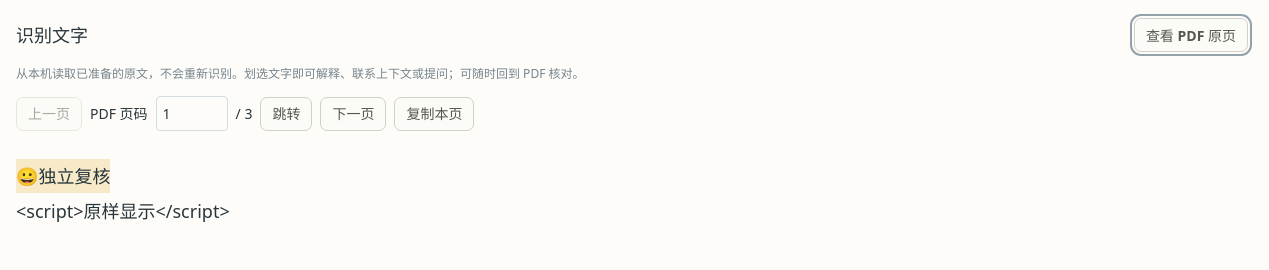
Test: selects literal OCR text with page evidence, copies it and clears the selection when closed
This screenshot has width=1269, height=270.
Click the button with test id "ocr-reading-copy" at (434, 114), box 394,97 -> 474,131
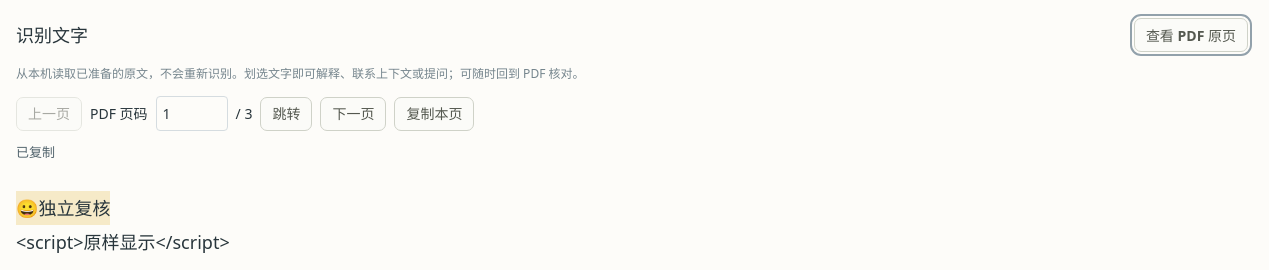
Check: the text "已复制" is shown, box 16,143 -> 55,161
